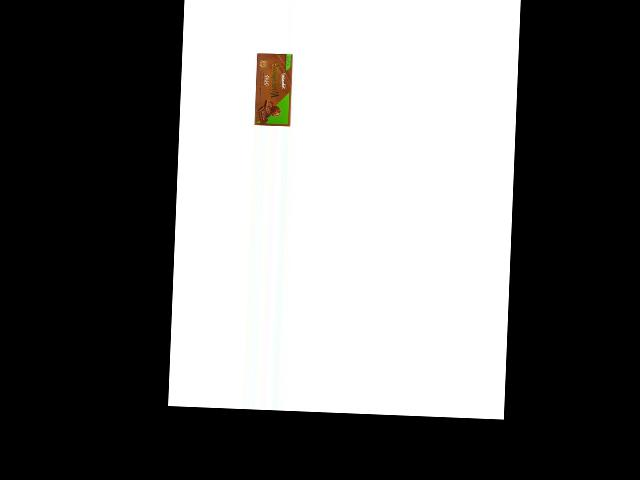chocolate: (252, 50, 295, 127)
